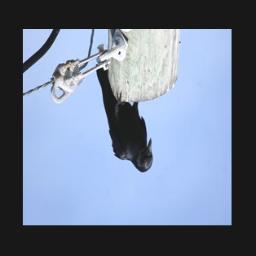Crow: (96, 63, 154, 173)
